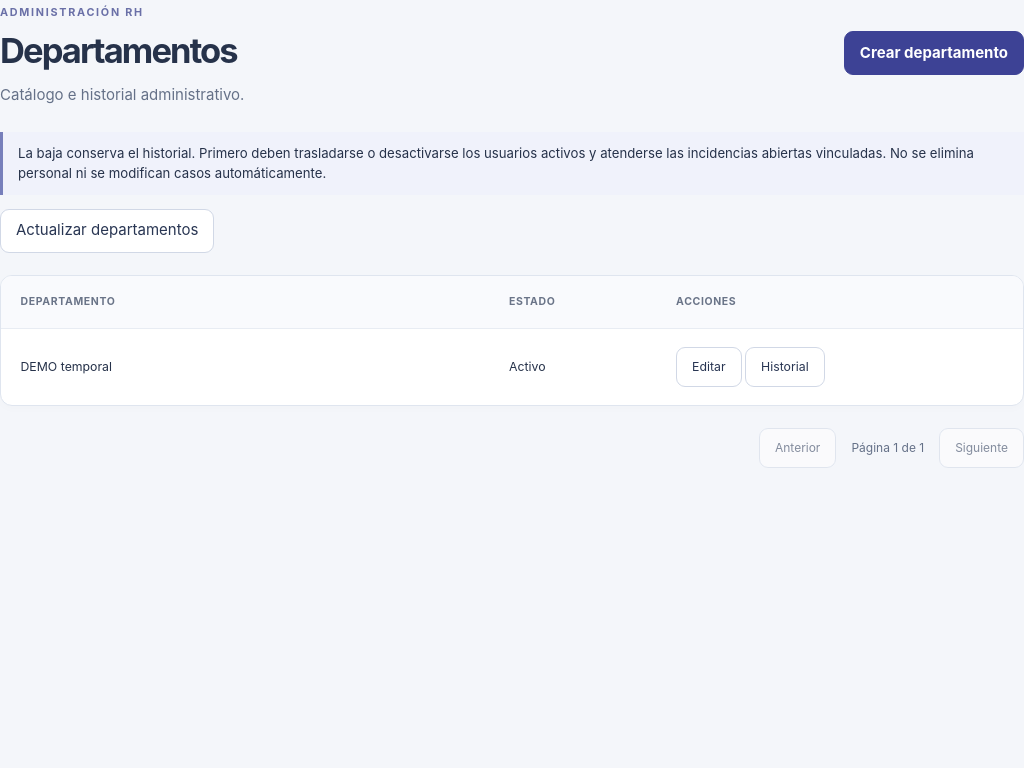
Test: crea departamento con nombre y motivo y recarga listado
The width and height of the screenshot is (1024, 768).
Check: the button with aria-label "Editar departamento DEMO temporal" is shown, box [676,347,742,387]
Click the button "Crear departamento" at (934, 53), box [844,31,1023,75]
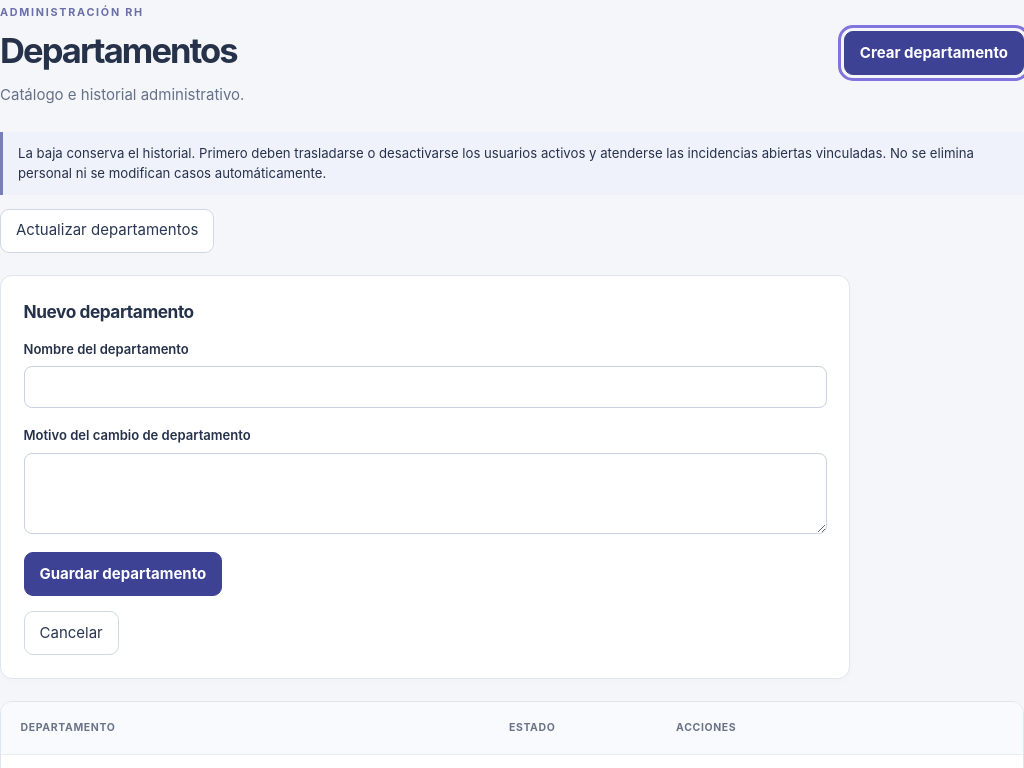
Type "QA nuevo" into the field labelled "Nombre del departamento" at (425, 387), box [24,366,826,408]
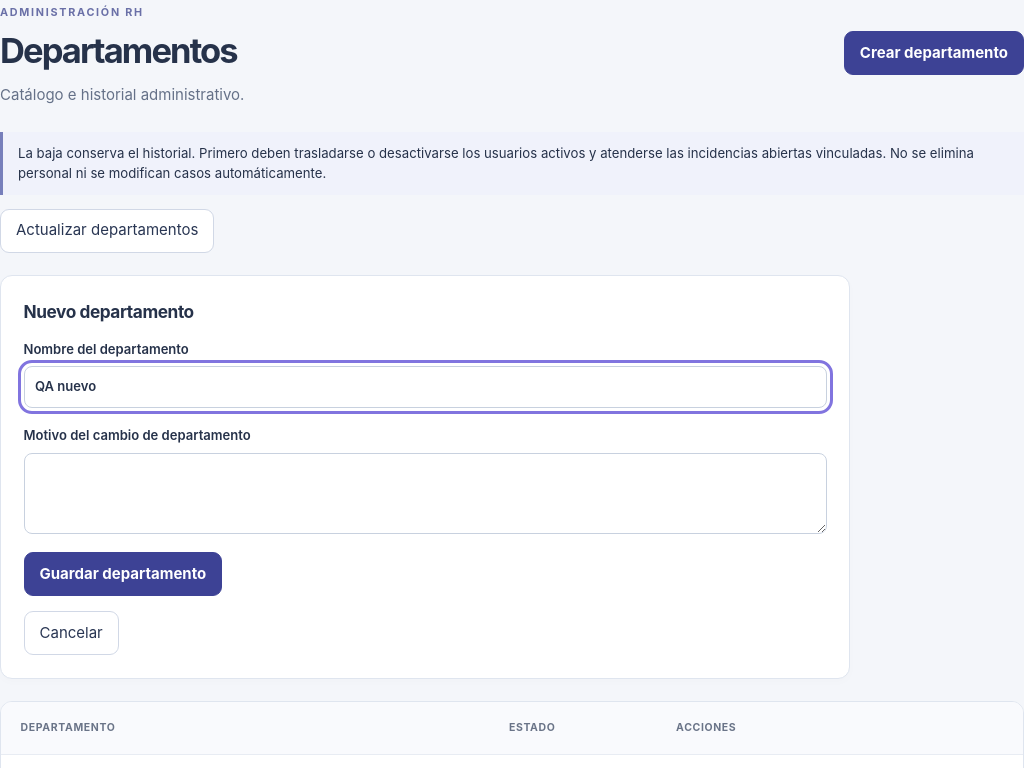
Type "Prueba UI" into the text box labelled "Motivo del cambio de departamento" at (425, 494), box [24,453,826,534]
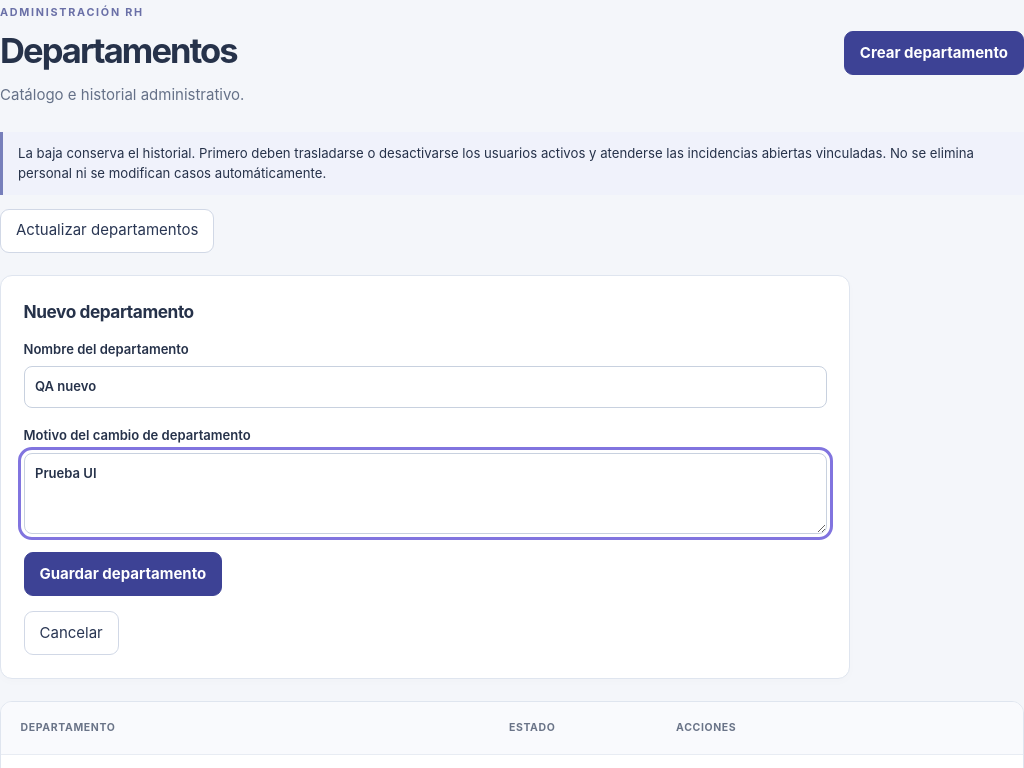
Click the button "Guardar departamento" at (123, 574), box [24,552,222,596]
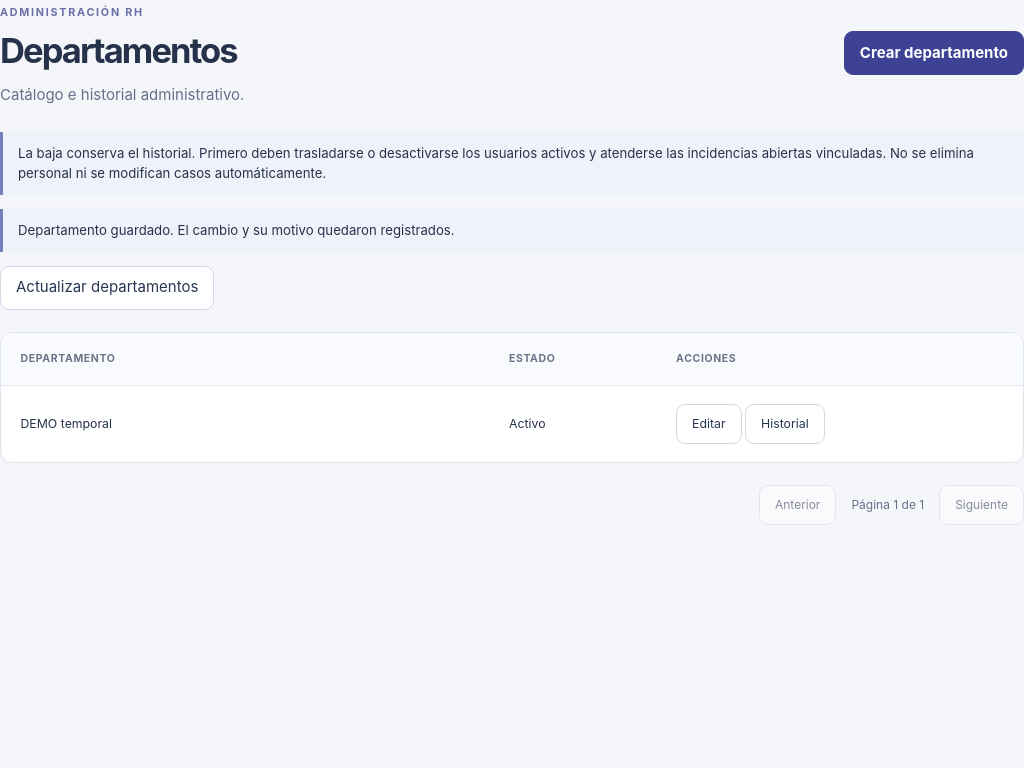
Check: the text "Departamento guardado. El cambio y su motivo quedaron registrados." is shown, box [0,209,1023,252]
